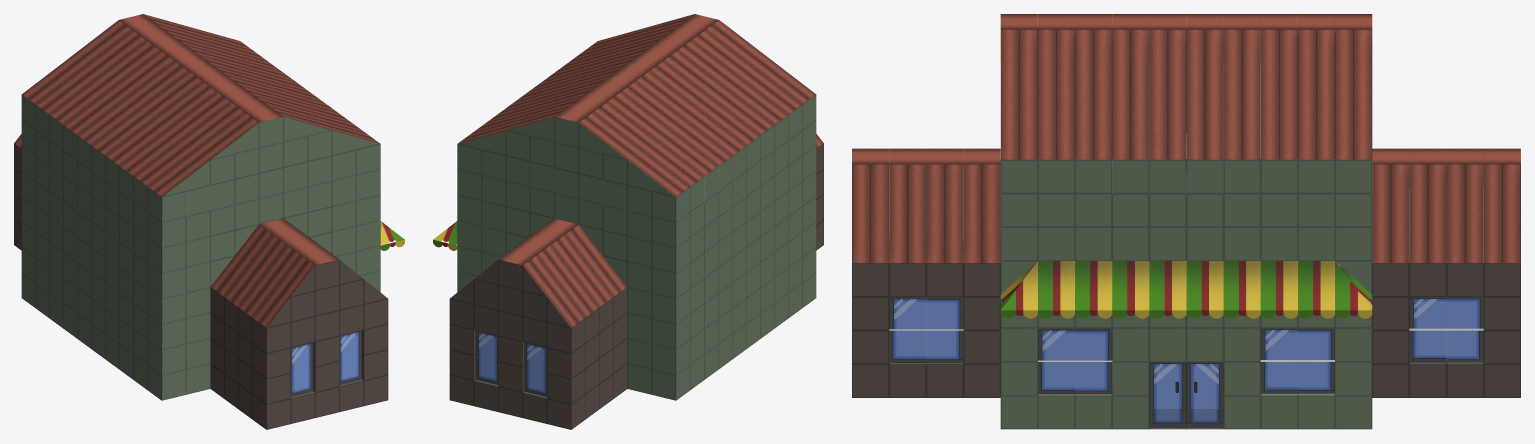
The model's file is GroceryExterior.dae.
3 renders of one model, left to right at view 1: azimuth 30°, elevation 25°; view 2: azimuth 150°, elevation 25°; view 3: azimuth 270°, elevation 25°, orthographic. The views are drawn at different scales.
Parts seen in each view (by area): view 1: Cube-col; view 2: Cube-col; view 3: Cube-col.
Boxes of the visible parts, x1,y1,x2,y2 form: Cube-col: (14,14,404,429); Cube-col: (433,14,823,429); Cube-col: (852,14,1520,429).
Size of the model in its own units: 20 by 36 by 20.03.
1 material, 1 textured.
